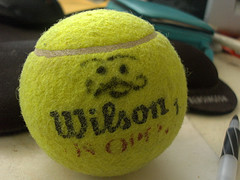tennis ball: (16, 7, 189, 176)
